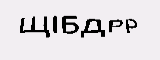Е: (89, 24, 103, 43)
И: (77, 19, 88, 39)
У: (64, 17, 76, 37)
Э: (103, 23, 119, 44)
Я: (51, 15, 62, 34)
